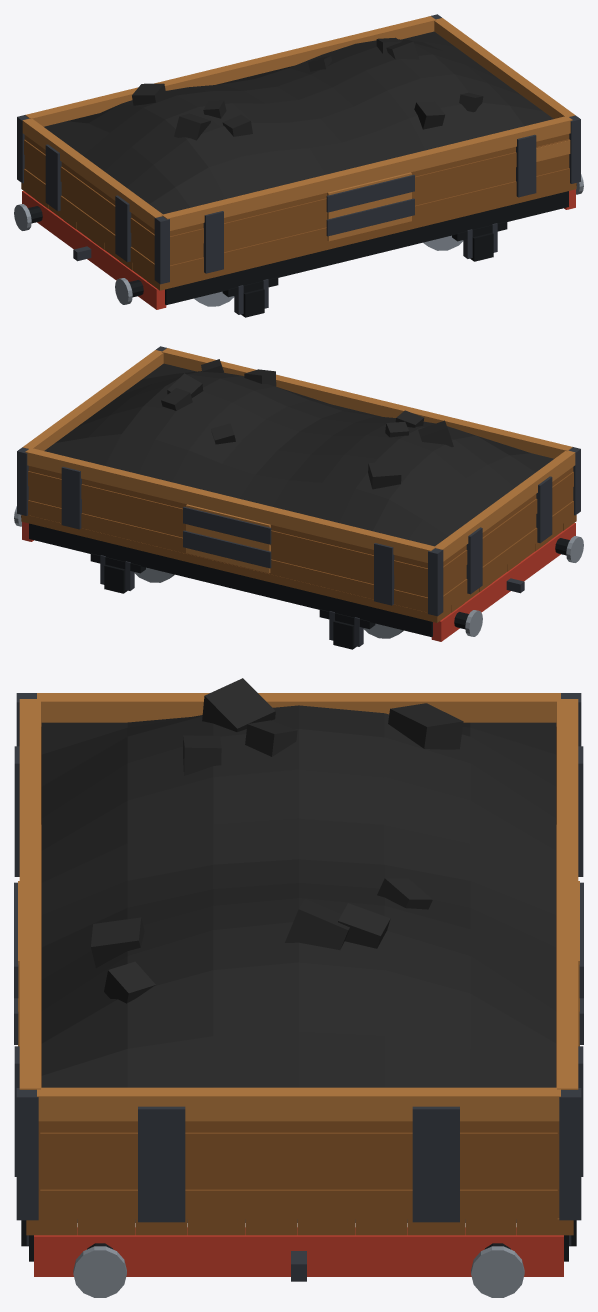
File: WagonOpenCoal_atlas.fbx
The picture shows the model from 3 angles, top to bottom: view 1: azimuth 30°, elevation 25°; view 2: azimuth 150°, elevation 25°; view 3: azimuth 270°, elevation 25°; orthographic projection. The views are drawn at different scales.
Visible parts, largest first — view 1: WagonOpenCoal_Heap_Load_01, WagonOpenCoal_Side_Timber_01, WagonOpenCoal_Cap_Cap_01, WagonOpenCoal_Solebar_Chassis_01, WagonOpenCoal_Cap_Cap_03, WagonOpenCoal_End_Timber_01, WagonOpenCoal_Deck_Timber_01, WagonOpenCoal_Lump_Load_01, WagonOpenCoal_DoorStrap_Iron_01, WagonOpenCoal_Cap_Cap_02, WagonOpenCoal_Cap_Cap_04, WagonOpenCoal_BufferBeam_Buffer_01 (+11 smaller); view 2: WagonOpenCoal_Heap_Load_01, WagonOpenCoal_Side_Timber_02, WagonOpenCoal_Cap_Cap_03, WagonOpenCoal_Solebar_Chassis_02, WagonOpenCoal_End_Timber_01, WagonOpenCoal_Cap_Cap_01, WagonOpenCoal_Deck_Timber_01, WagonOpenCoal_Lump_Load_01, WagonOpenCoal_DoorStrap_Iron_02, WagonOpenCoal_Cap_Cap_02, WagonOpenCoal_Cap_Cap_04, WagonOpenCoal_BufferBeam_Buffer_01 (+10 smaller); view 3: WagonOpenCoal_Heap_Load_01, WagonOpenCoal_End_Timber_02, WagonOpenCoal_BufferBeam_Buffer_02, WagonOpenCoal_Cap_Cap_04, WagonOpenCoal_Lump_Load_01, WagonOpenCoal_EndStrap_Iron_02, WagonOpenCoal_Cap_Cap_02, WagonOpenCoal_Deck_Timber_01, WagonOpenCoal_Cap_Cap_01, WagonOpenCoal_Cap_Cap_03, WagonOpenCoal_CornerPost_Iron_02, WagonOpenCoal_CornerPost_Iron_04 (+4 smaller).
Part boxes in pixels (box(x1,y1,x2,y2)): WagonOpenCoal_Heap_Load_01: box(44, 31, 553, 214); WagonOpenCoal_Side_Timber_01: box(170, 134, 569, 280); WagonOpenCoal_Cap_Cap_01: box(162, 116, 572, 230); WagonOpenCoal_Solebar_Chassis_01: box(165, 191, 568, 305); WagonOpenCoal_Cap_Cap_03: box(25, 16, 435, 126); WagonOpenCoal_End_Timber_01: box(24, 135, 154, 278); WagonOpenCoal_Deck_Timber_01: box(21, 183, 576, 290); WagonOpenCoal_Lump_Load_01: box(132, 37, 483, 140); WagonOpenCoal_DoorStrap_Iron_01: box(326, 174, 414, 236); WagonOpenCoal_Cap_Cap_02: box(22, 118, 162, 229); WagonOpenCoal_Cap_Cap_04: box(434, 18, 575, 118); WagonOpenCoal_BufferBeam_Buffer_01: box(22, 191, 166, 309); WagonOpenCoal_Heap_Load_01: box(44, 363, 553, 546); WagonOpenCoal_Side_Timber_02: box(28, 466, 427, 612); WagonOpenCoal_Cap_Cap_03: box(25, 448, 435, 562); WagonOpenCoal_Solebar_Chassis_02: box(29, 523, 432, 637); WagonOpenCoal_End_Timber_01: box(443, 467, 573, 610); WagonOpenCoal_Cap_Cap_01: box(162, 348, 572, 458); WagonOpenCoal_Deck_Timber_01: box(21, 515, 576, 622); WagonOpenCoal_Lump_Load_01: box(161, 359, 453, 489); WagonOpenCoal_DoorStrap_Iron_02: box(183, 506, 271, 568); WagonOpenCoal_Cap_Cap_02: box(435, 450, 575, 561); WagonOpenCoal_Cap_Cap_04: box(22, 350, 163, 450); WagonOpenCoal_BufferBeam_Buffer_01: box(431, 523, 575, 641); WagonOpenCoal_Heap_Load_01: box(41, 705, 556, 1087); WagonOpenCoal_End_Timber_02: box(40, 1121, 557, 1219); WagonOpenCoal_BufferBeam_Buffer_02: box(34, 1227, 563, 1276); WagonOpenCoal_Cap_Cap_04: box(37, 1087, 560, 1121); WagonOpenCoal_Lump_Load_01: box(91, 678, 463, 1003); WagonOpenCoal_EndStrap_Iron_02: box(138, 1106, 459, 1222); WagonOpenCoal_Cap_Cap_02: box(37, 693, 560, 726); WagonOpenCoal_Deck_Timber_01: box(26, 824, 573, 1235); WagonOpenCoal_Cap_Cap_01: box(19, 699, 40, 1089); WagonOpenCoal_Cap_Cap_03: box(557, 699, 578, 1089); WagonOpenCoal_CornerPost_Iron_02: box(16, 1088, 38, 1220); WagonOpenCoal_CornerPost_Iron_04: box(559, 1088, 581, 1220).
Size of what is drawn, in the model's own units: 32.8 by 12.66 by 18.06.
1 material, 1 textured.
